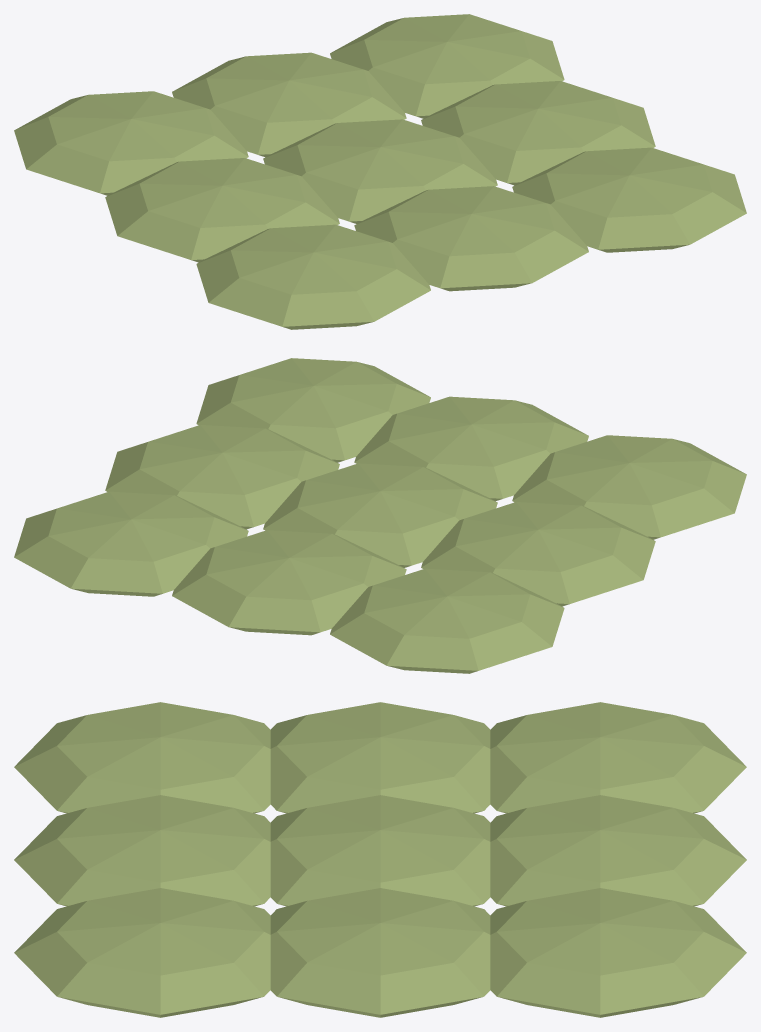
File: grave_moss.glb
The picture shows the model from 3 angles, top to bottom: view 1: azimuth 30°, elevation 25°; view 2: azimuth 150°, elevation 25°; view 3: azimuth 270°, elevation 25°; orthographic projection. The views are drawn at different scales.
Bounding box in the file's own units: 1 × 0.09 × 1.
